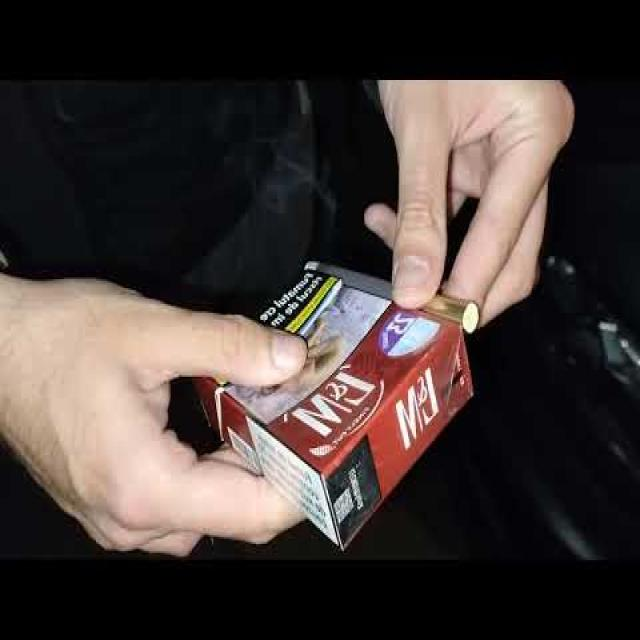lm: (189, 266, 480, 554)
